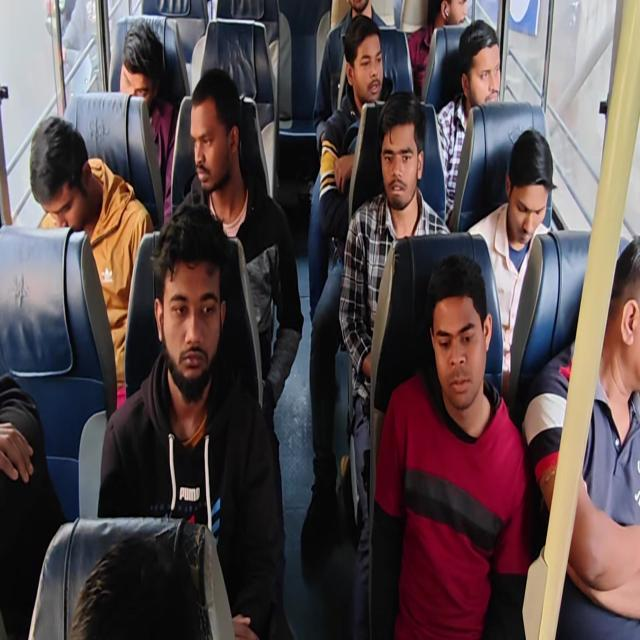person: (73, 508, 220, 640), (151, 203, 246, 399), (430, 233, 500, 424), (502, 125, 568, 265), (28, 112, 95, 226), (186, 72, 247, 191), (378, 92, 430, 221), (610, 232, 640, 439), (458, 20, 508, 121), (341, 15, 394, 106), (120, 16, 162, 116), (429, 0, 487, 32), (339, 0, 384, 20)
